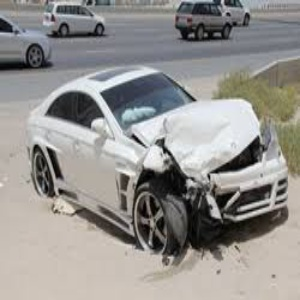bonnet: (165, 98, 262, 164)
bumper: (189, 173, 296, 237)
